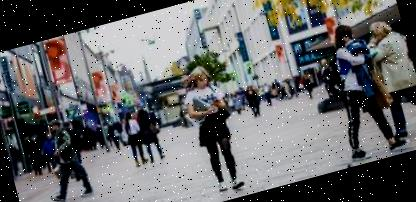person: (174, 57, 259, 202), (28, 112, 98, 202)
